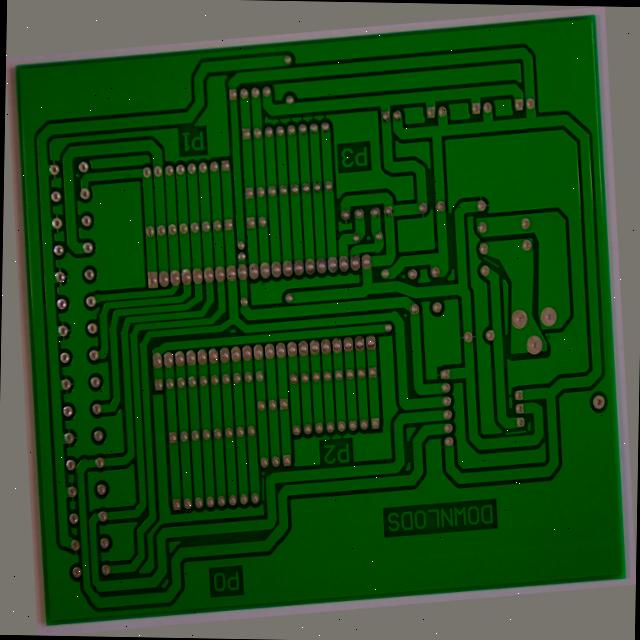spurious_copper: (239, 481, 251, 512), (495, 265, 516, 282), (505, 459, 531, 469)
